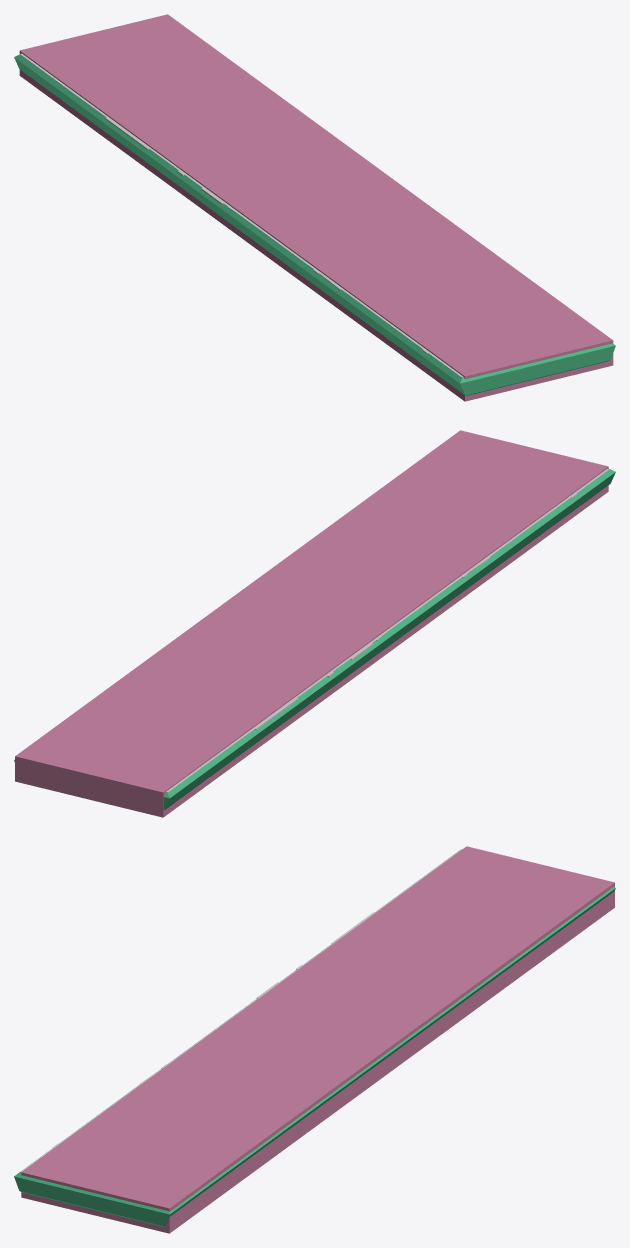
File: ind_obj_04_b.dae
3 renders of one model, top to bottom at view 1: azimuth 30°, elevation 25°; view 2: azimuth 150°, elevation 25°; view 3: azimuth 330°, elevation 25°, orthographic.
Visible parts, largest first — view 1: Untitled, Colmesh-1, tree_oak_bush_a100, tree_oak_bush_a20; view 2: Untitled, Colmesh-1, tree_oak_bush_a100, tree_oak_bush_a20; view 3: Untitled, Colmesh-1.
Part boxes in pixels (x1,y1,x2,y2): Untitled: [19, 14, 613, 401]; Colmesh-1: [14, 54, 615, 395]; tree_oak_bush_a100: [20, 53, 462, 376]; tree_oak_bush_a20: [21, 54, 462, 376]; Untitled: [15, 430, 608, 817]; Colmesh-1: [14, 468, 615, 810]; tree_oak_bush_a100: [166, 469, 608, 792]; tree_oak_bush_a20: [167, 469, 608, 791]; Untitled: [21, 846, 614, 1233]; Colmesh-1: [14, 851, 615, 1226].
Bounding box in the file's own units: 2.65 × 13.16 × 0.4095.
